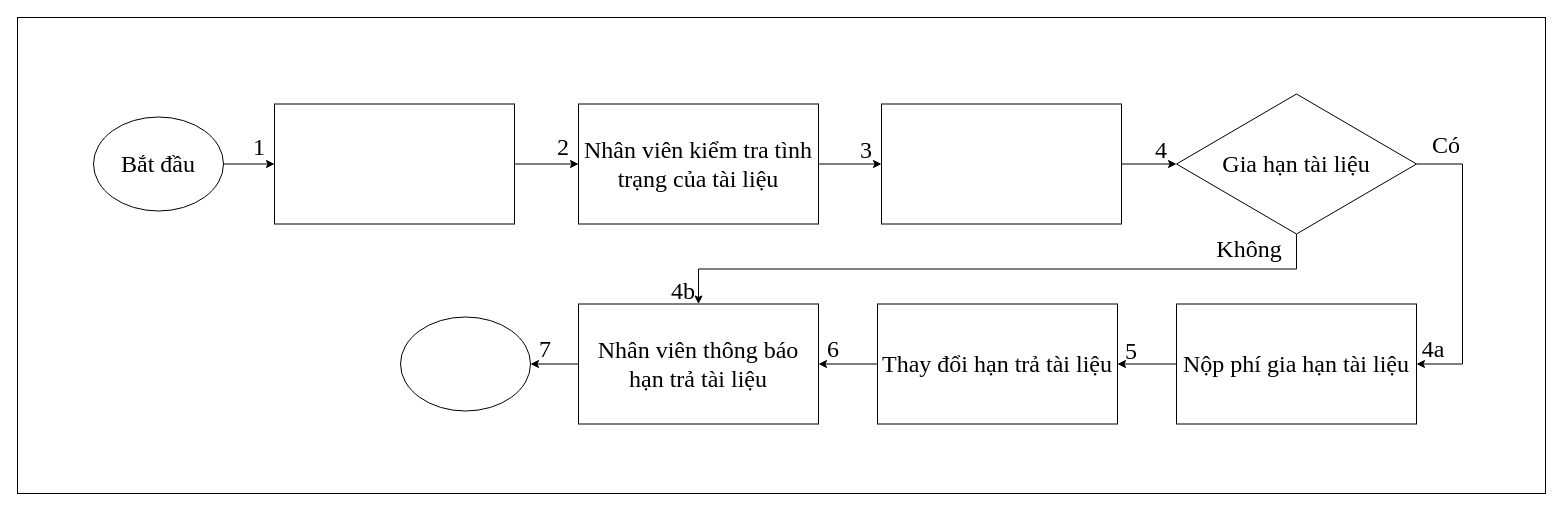
Some shapes in this 1563 by 511 pixel diagram are drawn without their labels. The centre of each missing label's shape, as x and y in pixels:
"Kết thúc" belongs at point 465,363.
"Nhân viên nhập thông tin thẻ thư viện và thông tin tài liệu mượn" belongs at point 1001,163.
"Xuất trình thẻ thư viện" belongs at point 394,163.
